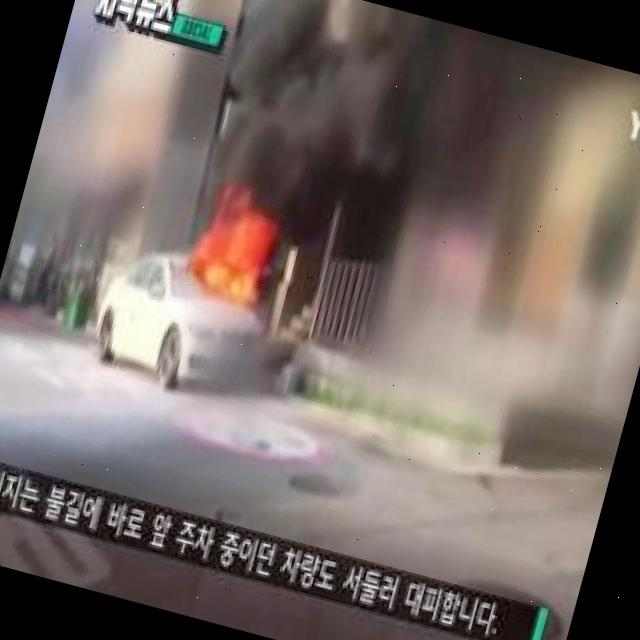fire: (188, 192, 279, 309)
